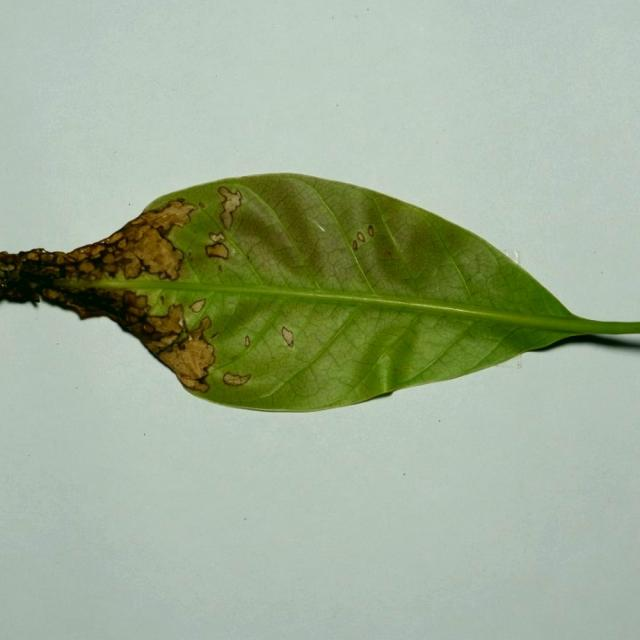Anthracnose: (230, 309, 300, 389), (187, 288, 257, 353), (448, 237, 505, 294), (191, 233, 248, 274), (276, 217, 330, 259), (145, 198, 199, 230), (413, 270, 466, 300), (176, 337, 214, 375), (107, 222, 156, 248), (188, 315, 212, 340), (120, 290, 146, 313), (64, 244, 96, 262), (117, 250, 142, 270), (377, 250, 403, 262), (220, 209, 233, 230), (41, 288, 63, 300), (192, 299, 207, 316), (159, 333, 177, 347), (174, 332, 190, 347), (352, 233, 366, 250), (78, 260, 95, 273), (102, 262, 119, 274), (169, 199, 186, 210), (159, 268, 175, 279), (103, 253, 117, 264), (142, 323, 156, 334), (117, 238, 127, 248), (4, 263, 15, 271), (158, 225, 167, 234), (198, 201, 206, 208), (188, 252, 193, 261), (160, 295, 165, 304)
Mango: (0, 173, 639, 415)
